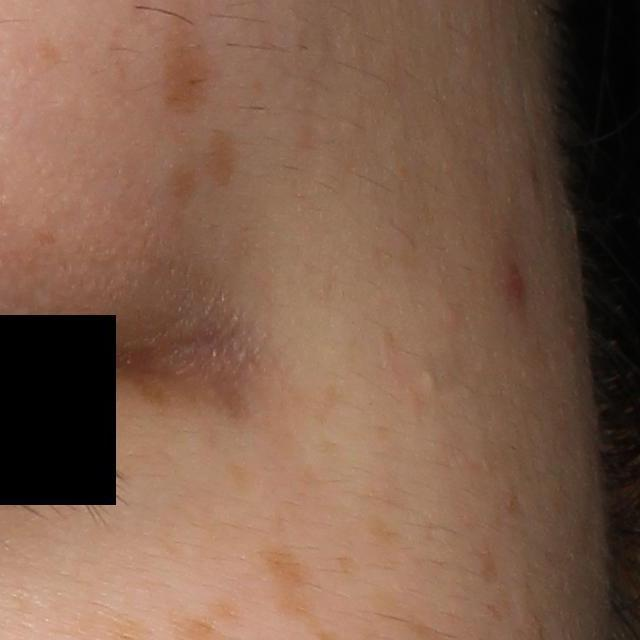comedo: (421, 370, 439, 389)
melasma: (138, 366, 267, 427), (366, 508, 399, 574), (203, 125, 234, 184), (478, 550, 499, 590)
